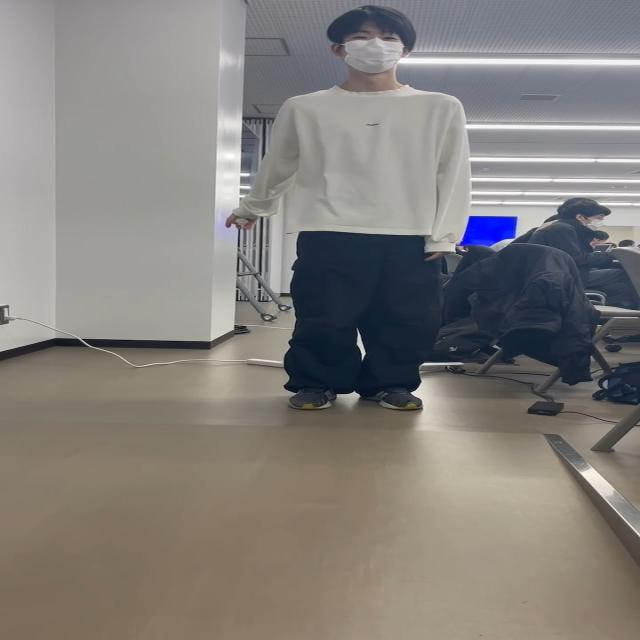paper: (235, 214, 253, 231)
